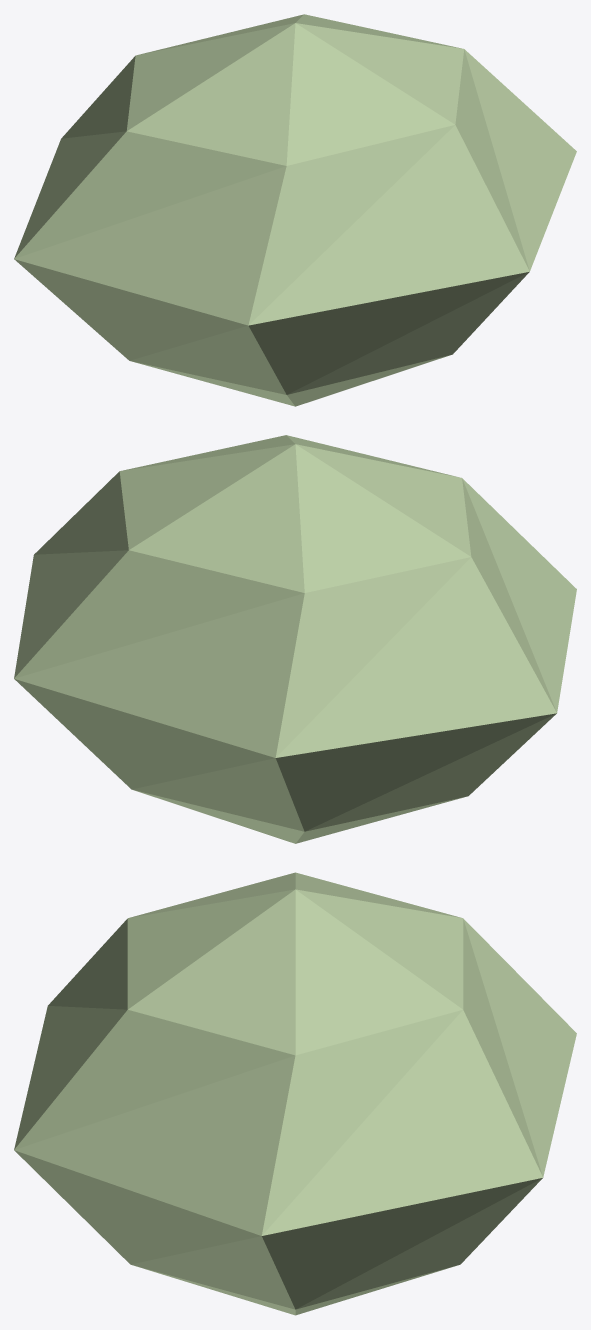
File: shrub-round.glb
3 renders of one model, top to bottom at view 1: azimuth 30°, elevation 25°; view 2: azimuth 150°, elevation 25°; view 3: azimuth 270°, elevation 25°, orthographic. The views are drawn at different scales.
Parts seen in each view (by area): view 1: shrub-round; view 2: shrub-round; view 3: shrub-round.
Part boxes in pixels (box(x1,y1,x2,y2)): shrub-round: box(14, 14, 576, 406); shrub-round: box(14, 435, 576, 843); shrub-round: box(14, 872, 576, 1315).
Bounding box in the file's own units: 1.89 × 1.3 × 1.56.
